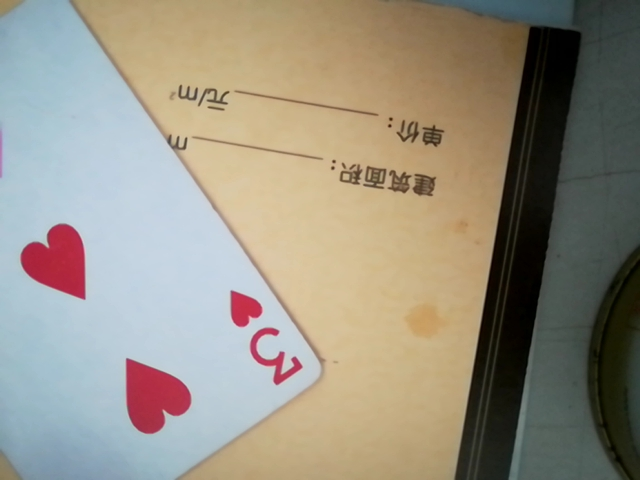hx 3: (0, 0, 331, 480)
